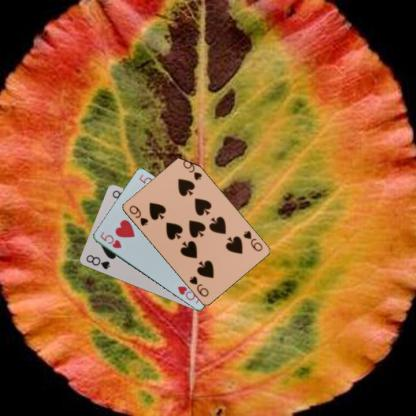5h: (97, 228, 123, 249)
8s: (83, 252, 111, 270)
9s: (126, 203, 150, 227), (240, 228, 263, 252)
